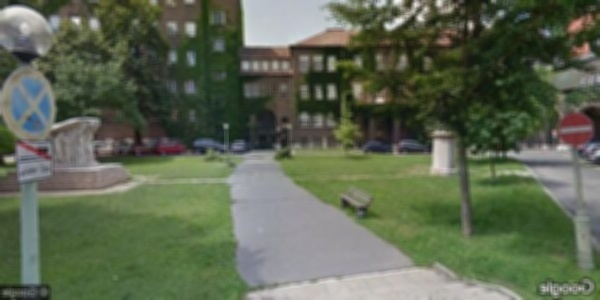d_no_entry: (558, 111, 593, 146)
e_no_stop_park: (0, 67, 55, 141)
